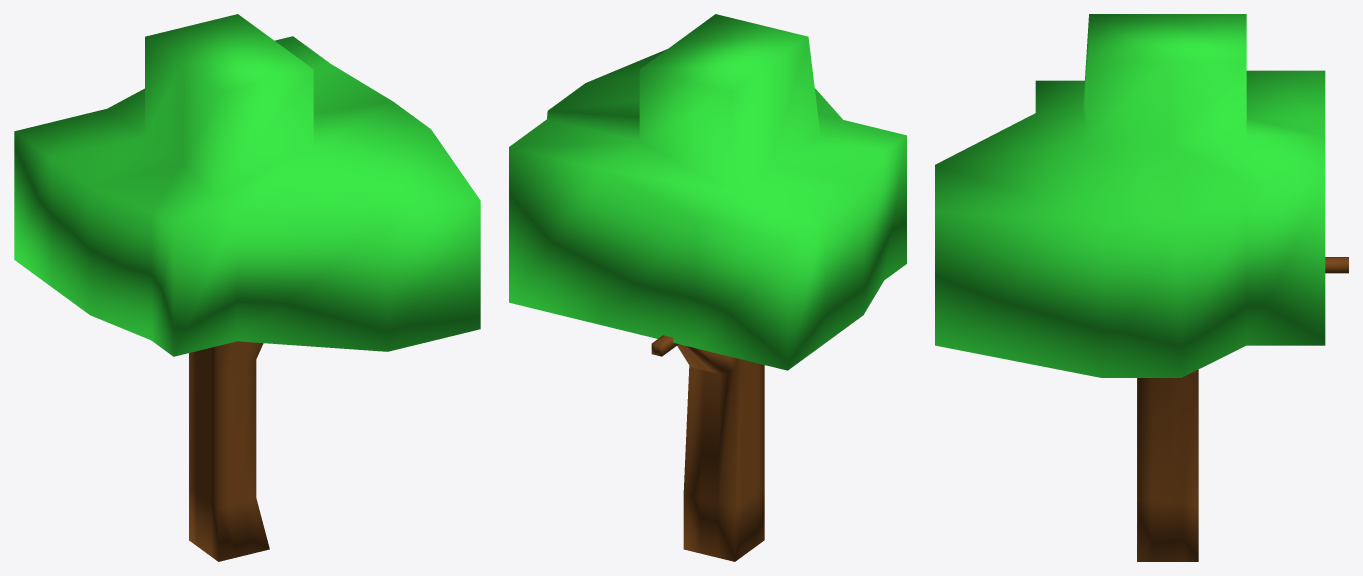
File: chéne.glb
3 views of the same model, side by side, from view 1: azimuth 30°, elevation 25°; view 2: azimuth 150°, elevation 25°; view 3: azimuth 270°, elevation 25° (orthographic). The views are drawn at different scales.
Parts seen in each view (by area): view 1: Cube; view 2: Cube; view 3: Cube.
Part boxes in pixels (x1,y1,x2,y2): Cube: (14, 14, 480, 561); Cube: (509, 14, 906, 561); Cube: (935, 14, 1348, 561).
Bounding box in the file's own units: 3.21 × 4.87 × 3.57.
